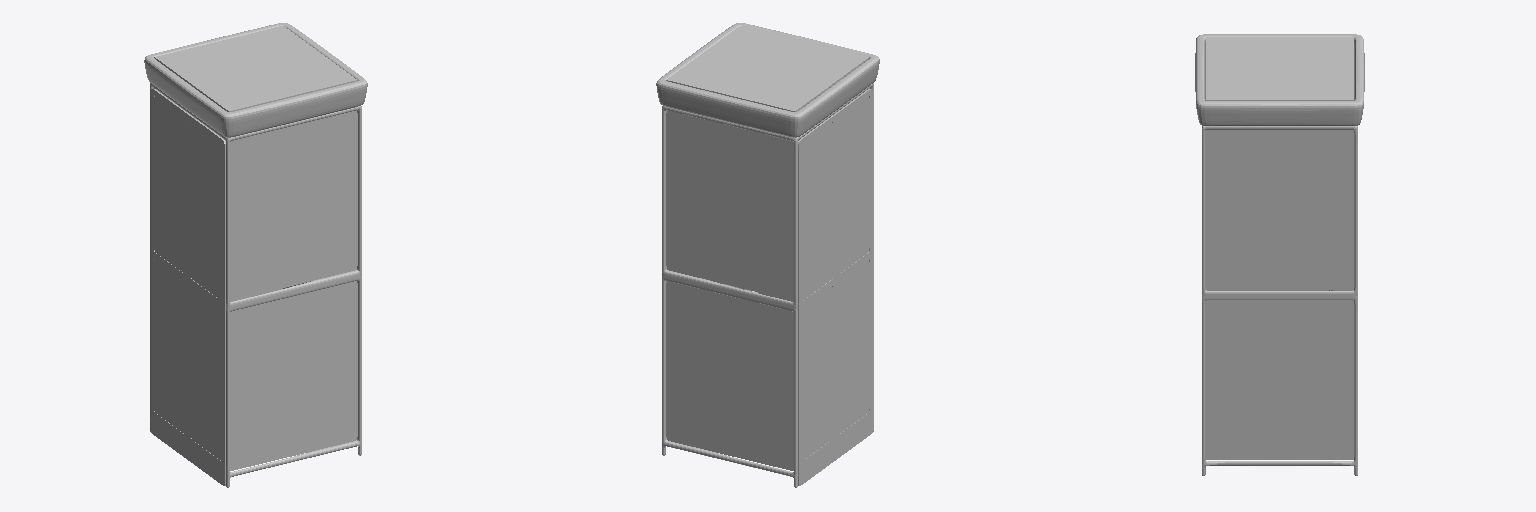
Rendered from Call-box N201218.obj.
3 renders of one model, left to right at view 1: azimuth 30°, elevation 25°; view 2: azimuth 150°, elevation 25°; view 3: azimuth 270°, elevation 25°, orthographic.
Parts seen in each view (by area): view 1: Object021, Plane061, Object027, Object028, Object022, Box008, Object018, Object019; view 2: Object021, Plane061, Object027, Object028, Object022, Box008, Object019, Object018; view 3: Object021, Plane061, Object022, Box008.
Boxes of the visible parts, <box> form: Object021: <box>154,88,357,470</box>; Plane061: <box>154,26,357,111</box>; Object027: <box>154,96,184,433</box>; Object028: <box>191,123,221,460</box>; Object022: <box>144,23,367,137</box>; Box008: <box>150,83,361,487</box>; Object018: <box>188,114,225,485</box>; Object019: <box>151,89,188,459</box>; Object021: <box>666,88,869,470</box>; Plane061: <box>666,26,869,111</box>; Object027: <box>802,123,832,460</box>; Object028: <box>839,96,869,433</box>; Object022: <box>656,23,879,137</box>; Box008: <box>662,83,873,487</box>; Object019: <box>798,114,835,485</box>; Object018: <box>835,89,872,459</box>; Object021: <box>1206,130,1353,459</box>; Plane061: <box>1206,37,1353,100</box>; Object022: <box>1195,34,1364,125</box>; Box008: <box>1202,126,1357,475</box>.
Size of the model in its own units: 8350 by 20362 by 8350.